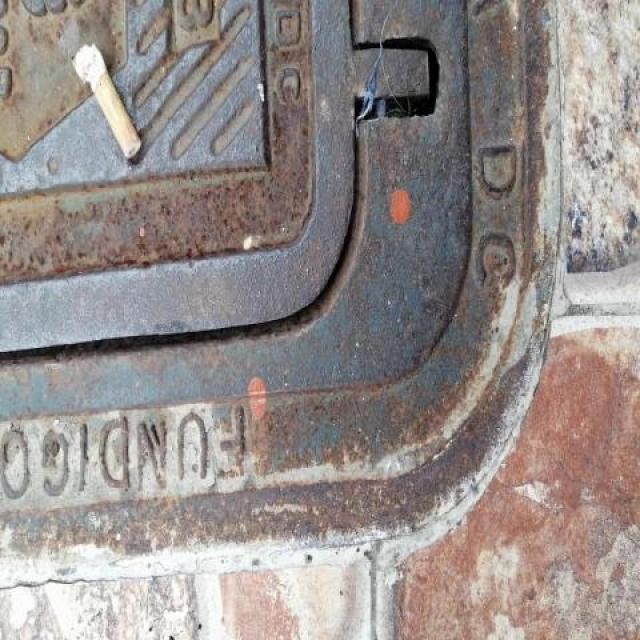non-organic waste: (70, 37, 146, 163)
